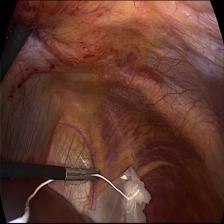Grasper: (66, 165, 102, 182)
Specimen Bag: (98, 165, 152, 224)
